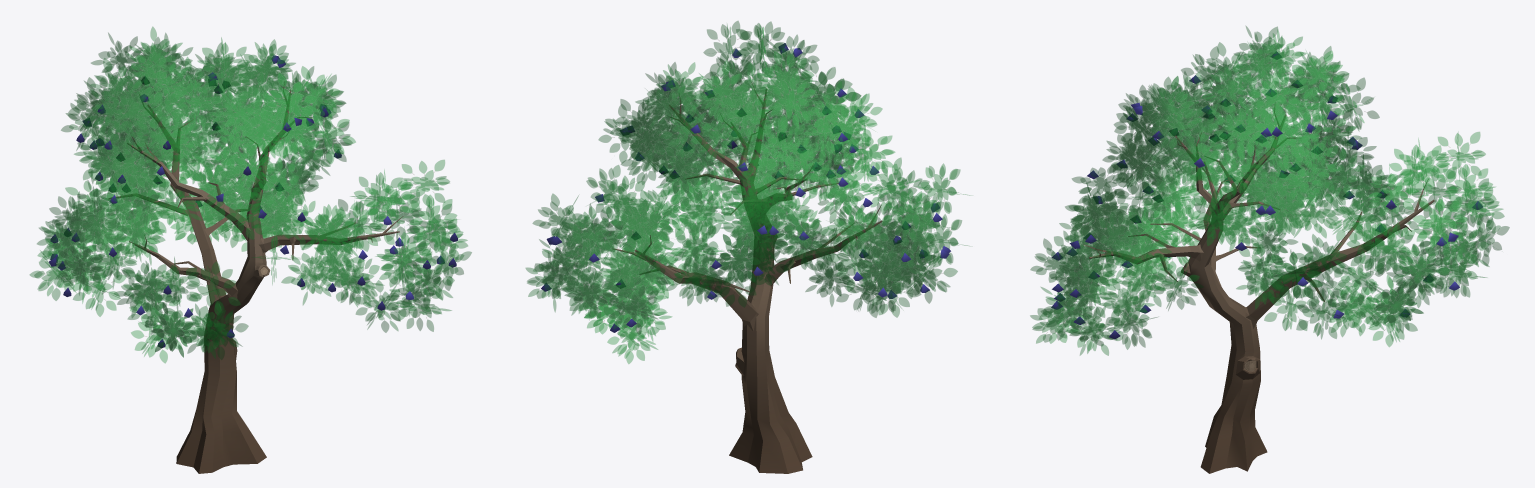
File: PT_Fruit_Tree_01_plums.glb
3 views of the same model, side by side, from view 1: azimuth 30°, elevation 25°; view 2: azimuth 150°, elevation 25°; view 3: azimuth 270°, elevation 25° (orthographic).
Visible parts, largest first — view 1: PT_Fruit_Tree_01_plums_LOD0; view 2: PT_Fruit_Tree_01_plums_LOD0; view 3: PT_Fruit_Tree_01_plums_LOD0.
Part boxes in pixels (x1,y1,x2,y2): PT_Fruit_Tree_01_plums_LOD0: [30, 27, 471, 473]; PT_Fruit_Tree_01_plums_LOD0: [525, 21, 969, 473]; PT_Fruit_Tree_01_plums_LOD0: [1030, 26, 1509, 473].
Size of what is drawn, in the model's own units: 6.5 by 6.58 by 7.25.
2 materials, 2 textured.
